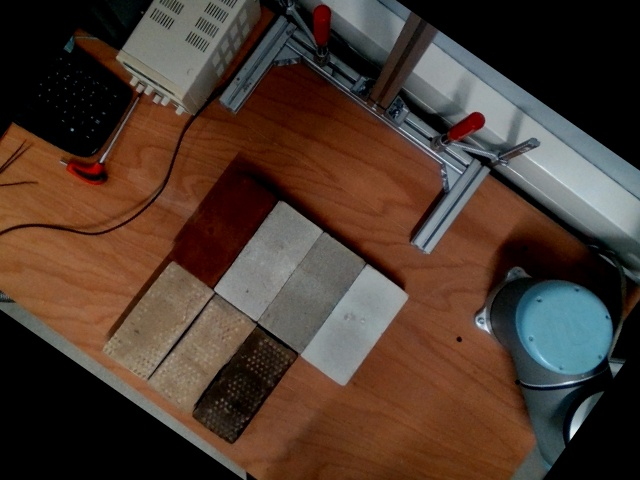brick: (100, 259, 213, 382), (166, 167, 276, 289), (256, 232, 366, 353), (189, 326, 298, 447), (301, 265, 409, 387), (146, 293, 254, 414), (213, 201, 320, 320)
